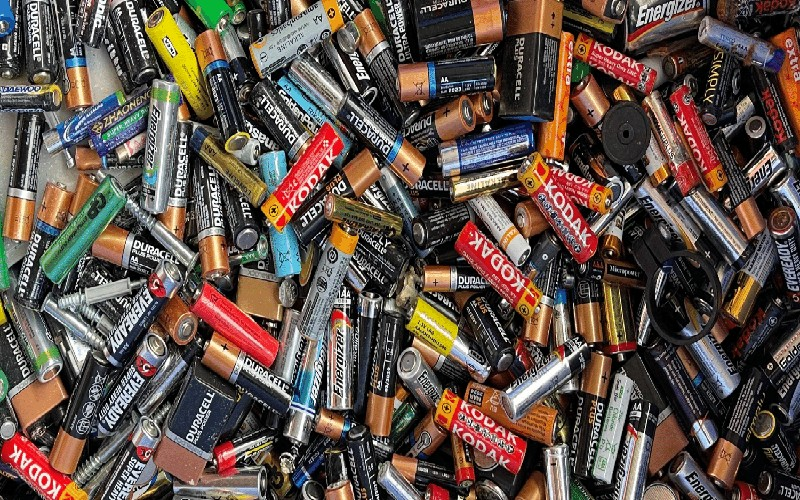Battery: (0, 0, 799, 500)
